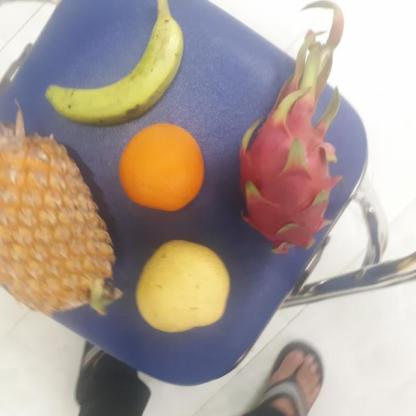banana: (52, 6, 180, 125)
guava: (130, 242, 230, 330)
pear: (132, 240, 230, 334), (116, 122, 208, 210)
pitaya: (229, 82, 364, 253)
